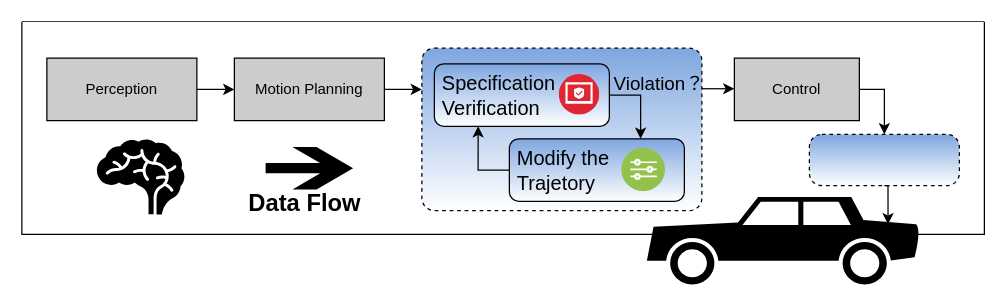
The diagram is 1006 pixels wide and 306 high, and some of its shapes have lost their labels. The shapes that lost their labels are listed below. From the top down, each one's centre as x and y in pixels, then its label:
At (140,176): "ADS".
At (883,159): "Instant Check".
